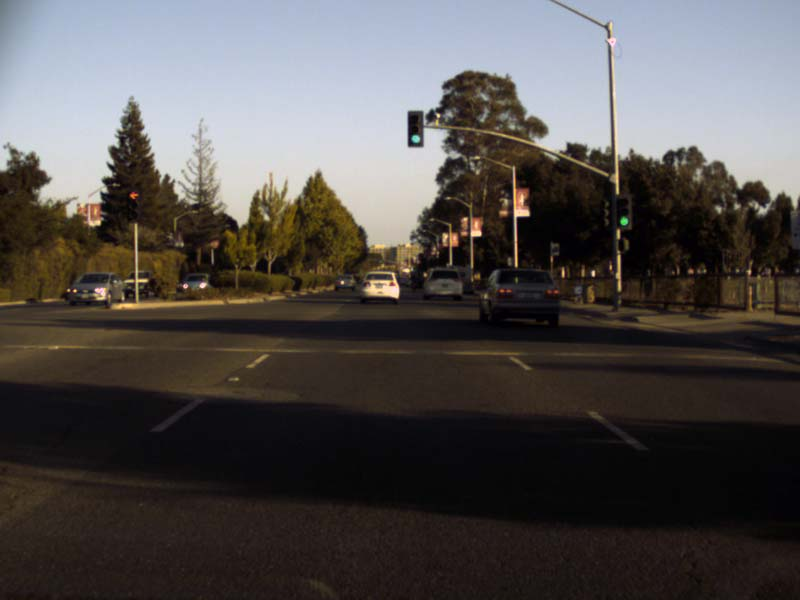Green: (613, 194, 632, 227), (408, 110, 422, 146)
Red: (127, 189, 138, 221)
